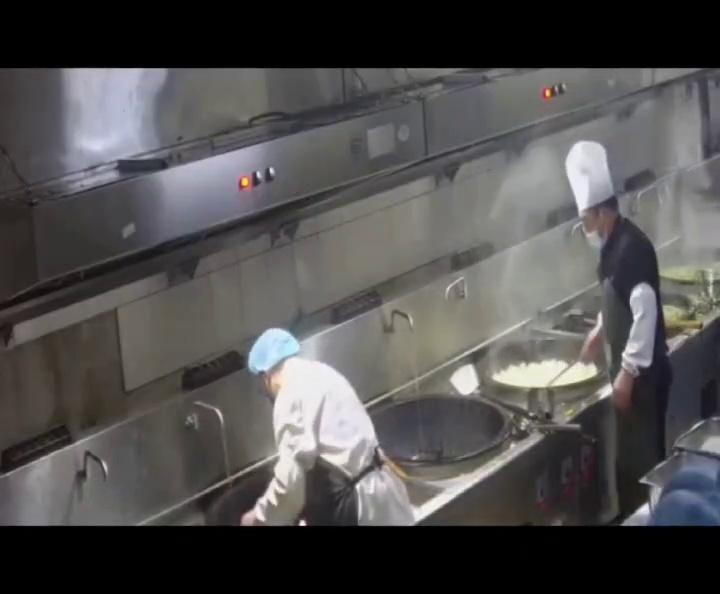gloves: (246, 327, 300, 370)
